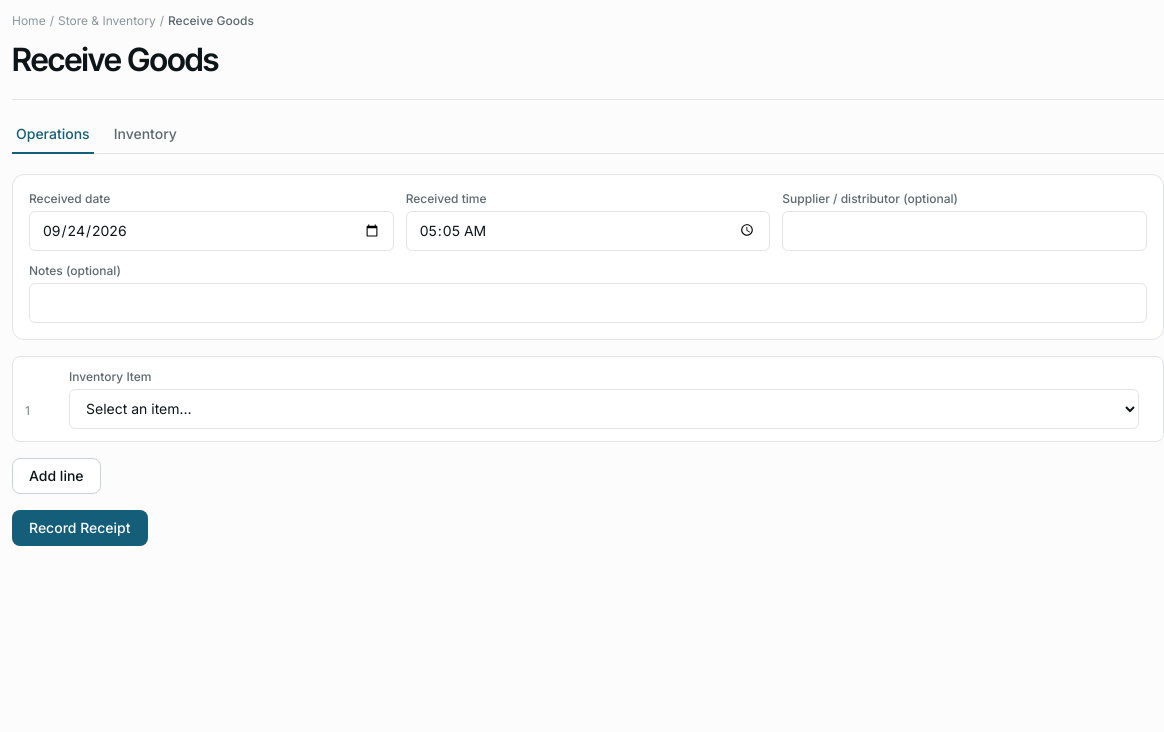
Scenario: ReceiveGoodsPage › adds another compact row via Add line, without expanding into a large form
expect the number of dropdowns labelled "Inventory Item" is 1: met, box [69,389,1139,429]
Click the button "Add line".
click(56, 476)  # box [12,458,101,494]
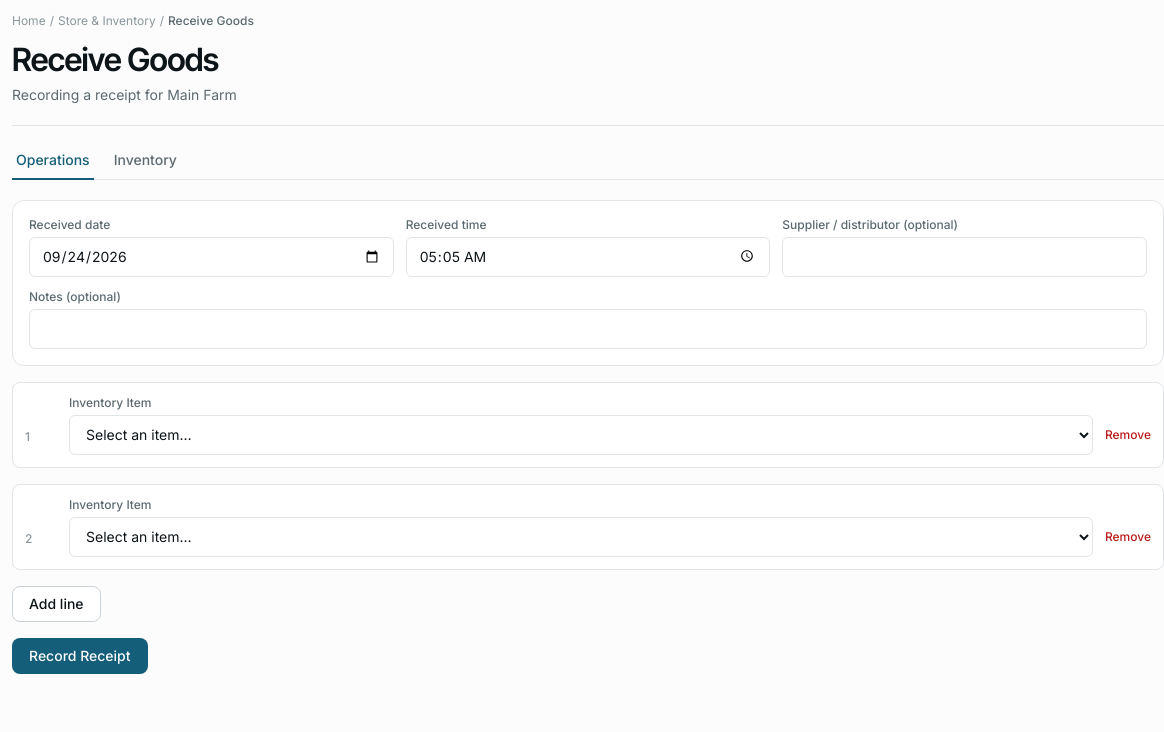
expect the number of dropdowns labelled "Inventory Item" is 2: met, box [69,415,1093,455]; [69,517,1093,557]
